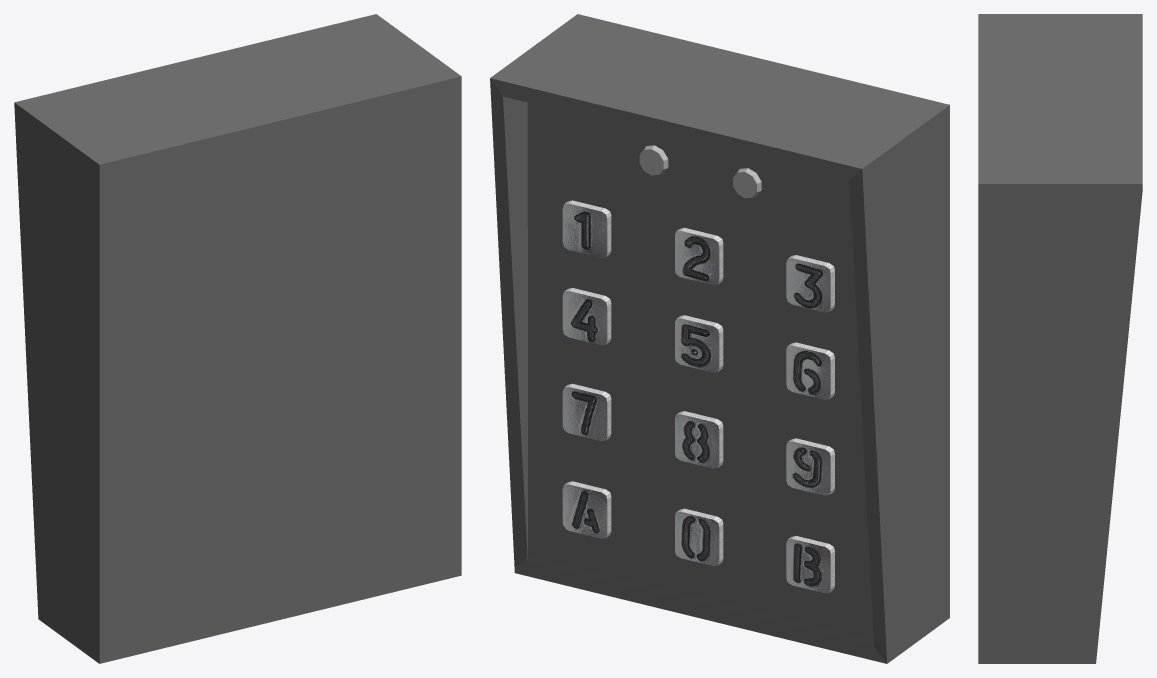
Rendered from digicode.obj.
3 renders of one model, left to right at view 1: azimuth 30°, elevation 25°; view 2: azimuth 150°, elevation 25°; view 3: azimuth 270°, elevation 25°, orthographic. The views are drawn at different scales.
Visible parts, largest first — view 1: Cube.004_Cube.006; view 2: Cube.004_Cube.006; view 3: Cube.004_Cube.006.
Boxes of the visible parts, bbox=[...] form: Cube.004_Cube.006: bbox=[14, 14, 461, 663]; Cube.004_Cube.006: bbox=[490, 14, 949, 663]; Cube.004_Cube.006: bbox=[978, 14, 1142, 663].
Bounding box in the file's own units: 0.1971 × 0.2595 × 0.0804.
Materials: 2 (2 with a texture image).
